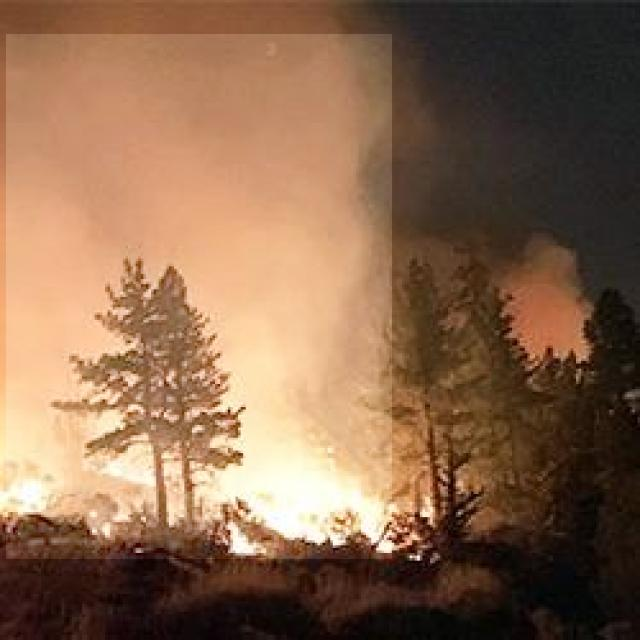Smoke: (6, 34, 392, 559)
